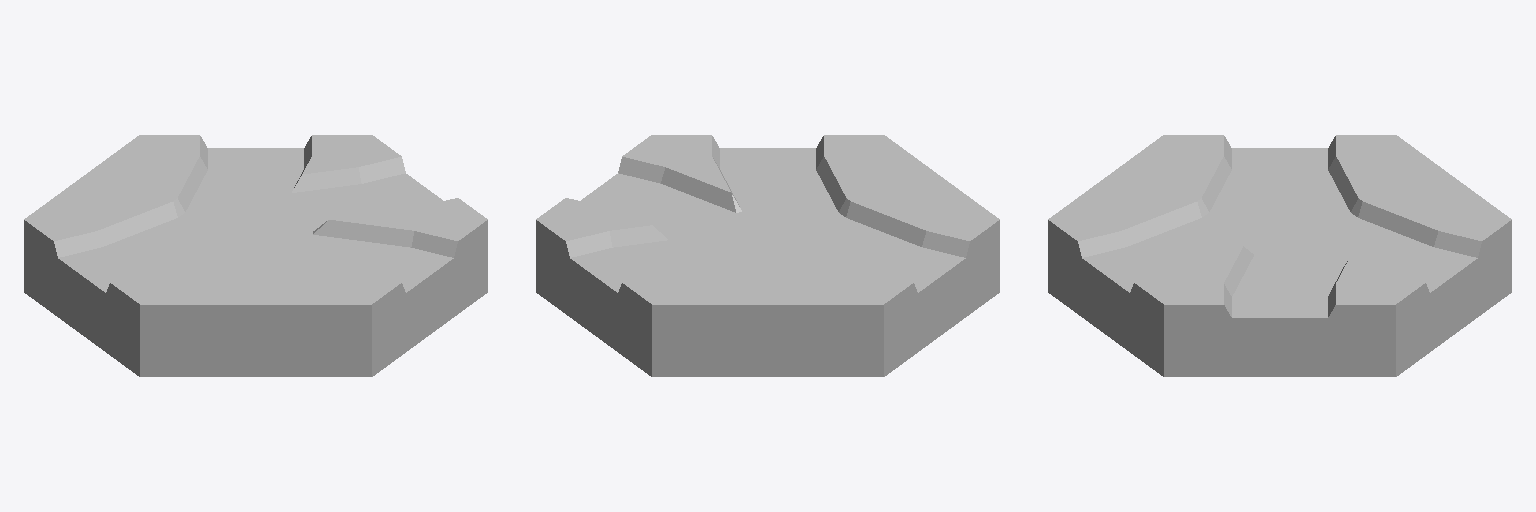
Rendered from river_intersectionD.obj.
3 views of the same model, side by side, from view 1: azimuth 30°, elevation 25°; view 2: azimuth 150°, elevation 25°; view 3: azimuth 270°, elevation 25° (orthographic).
Parts seen in each view (by area): view 1: river_intersectionD; view 2: river_intersectionD; view 3: river_intersectionD.
Part boxes in pixels (bbox=[...]): river_intersectionD: bbox=[24, 135, 487, 376]; river_intersectionD: bbox=[536, 135, 999, 376]; river_intersectionD: bbox=[1048, 135, 1511, 376].
Bounding box in the file's own units: 1 × 0.2 × 1.15.